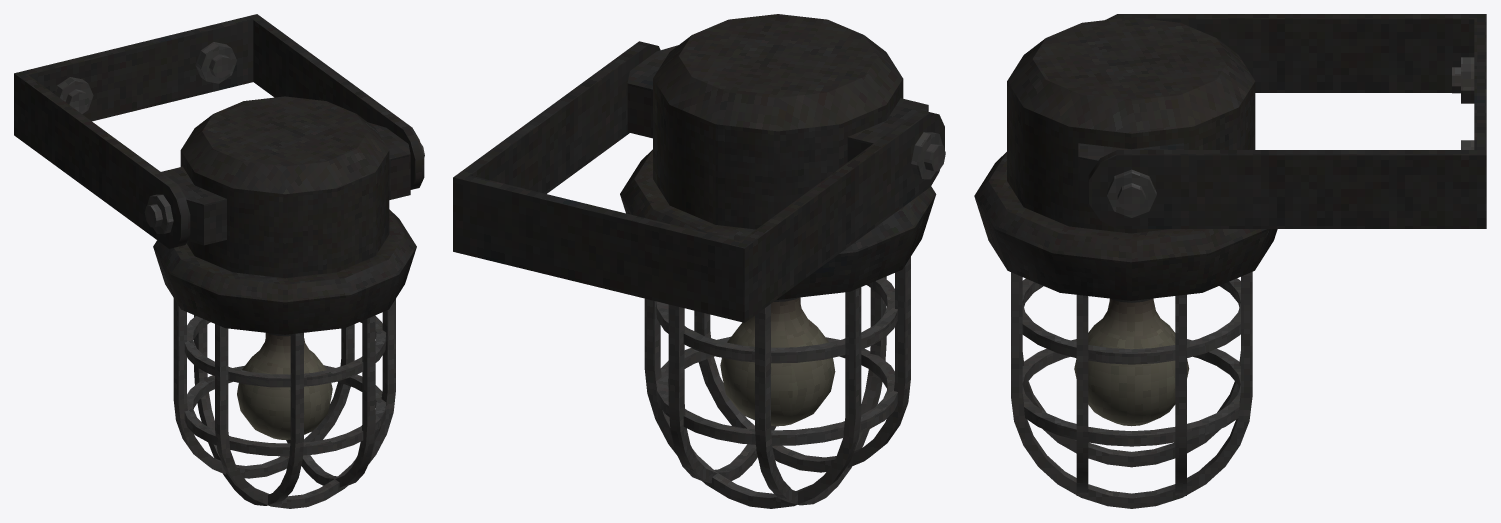
The model's file is lamp_mx_1_1_off.glb.
3 views of the same model, side by side, from view 1: azimuth 30°, elevation 25°; view 2: azimuth 150°, elevation 25°; view 3: azimuth 270°, elevation 25° (orthographic). The views are drawn at different scales.
Visible parts, largest first — view 1: lamp_mx_1_1_off; view 2: lamp_mx_1_1_off; view 3: lamp_mx_1_1_off.
Boxes of the visible parts, x1=… form: lamp_mx_1_1_off: x1=14, y1=14, x2=424, y2=508; lamp_mx_1_1_off: x1=453, y1=14, x2=945, y2=508; lamp_mx_1_1_off: x1=974, y1=14, x2=1486, y2=508.
Size of the model in its own units: 0.2245 by 0.2865 by 0.3118.
3 materials, 3 textured.
